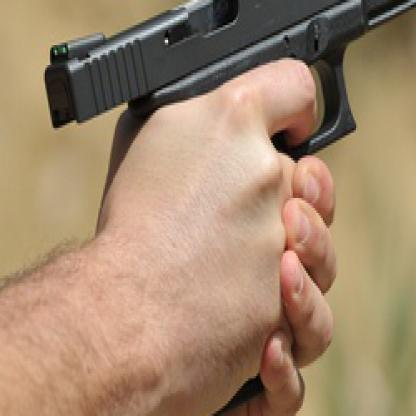gun: (44, 0, 415, 414)
